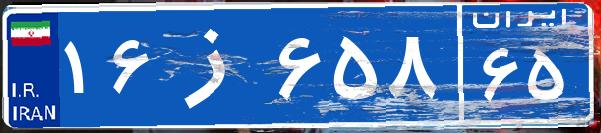1: (57, 26, 110, 107)
5: (330, 28, 385, 110), (525, 38, 570, 115)
6: (273, 28, 330, 110), (475, 38, 525, 113), (110, 28, 158, 105)
8: (385, 28, 445, 110)
ز: (158, 15, 273, 115)
